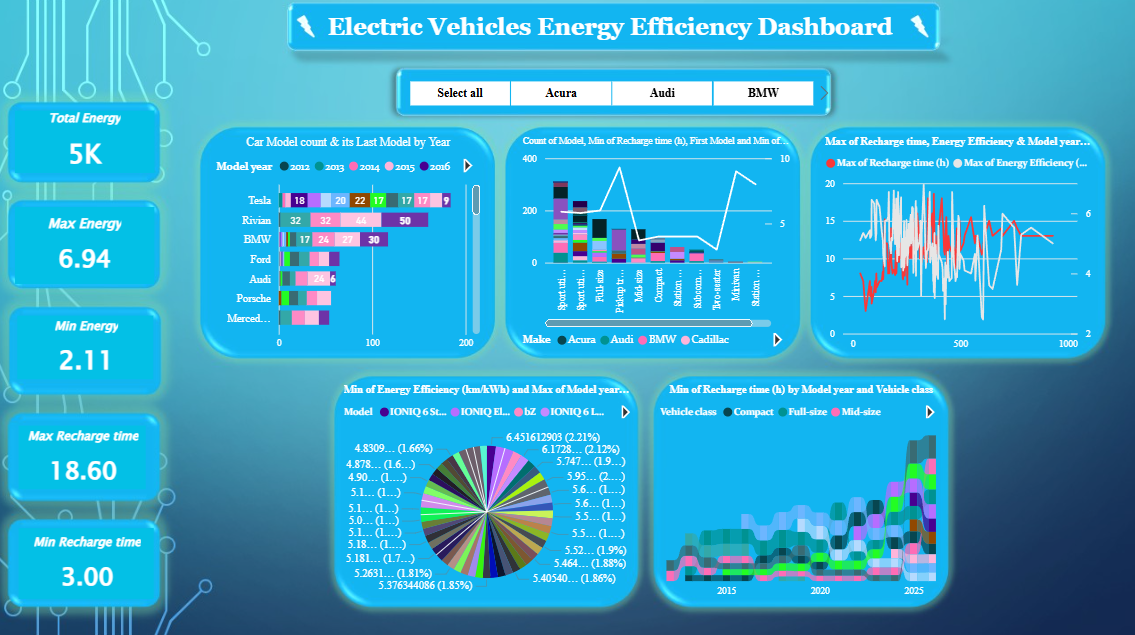

This screenshot's page, from the dashboard's own definition file:
{"tool":"powerbi","page":{"name":"Page 1","canvas":[1280,720],"ordinal":0},"visuals":[{"type":"textbox","box":[326.4,14,717.3,46.2],"z":0},{"type":"cardVisual","fields":{"Data":["Max(EV Energy Efficiency Dataset.Energy Efficiency (km/kWh))"]},"box":[15.4,228.4,166.7,96.7],"z":1000},{"type":"cardVisual","fields":{"Data":["Sum(EV Energy Efficiency Dataset.Energy Efficiency (km/kWh))"]},"box":[15.4,120.5,166.7,79.9],"z":2000},{"type":"cardVisual","fields":{"Data":["Min(EV Energy Efficiency Dataset.Energy Efficiency (km/kWh))"]},"box":[18.2,350.3,162.5,81.3],"z":3000},{"type":"cardVisual","fields":{"Data":["Max(EV Energy Efficiency Dataset.Recharge time (h))"]},"box":[19.6,473.6,152.7,81.3],"z":4000},{"type":"cardVisual","fields":{"Data":["Min(EV Energy Efficiency Dataset.Recharge time (h))"]},"box":[19.6,588.4,161.1,89.7],"z":5000},{"type":"barChart","title":"Car Model count & its Last Model by Year","fields":{"Category":["EV Energy Efficiency Dataset.Make"],"Y":["CountNonNull(EV Energy Efficiency Dataset.Model)"],"Series":["EV Energy Efficiency Dataset.Model year"]},"box":[240.6,160.8,306.1,239.4],"z":6000},{"type":"lineStackedColumnComboChart","title":"Model Count, Min Recharge time, First Model and Min of Model year by Vehicle class and Make","fields":{"Category":["EV Energy Efficiency Dataset.Vehicle class"],"Y2":["Min(EV Energy Efficiency Dataset.Recharge time (h))"],"Series":["EV Energy Efficiency Dataset.Make"],"Y":["CountNonNull(EV Energy Efficiency Dataset.Model)"]},"box":[578.9,160.8,314.5,239.4],"z":7000},{"type":"lineChart","title":"Max of Recharge time, Energy Efficiency & Model year by Motor (kW)","fields":{"Category":["EV Energy Efficiency Dataset.Motor (kW)"],"Y2":["Max(EV Energy Efficiency Dataset.Energy Efficiency (km/kWh))"],"Y":["Max(EV Energy Efficiency Dataset.Recharge time (h))"]},"box":[923.1,160.8,308.5,239.4],"z":8000},{"type":"pieChart","title":"Min Energy Efficiency and Max Model year by Model & Recharge time (h)","fields":{"Y":["Min(EV Energy Efficiency Dataset.Energy Efficiency (km/kWh))"],"Category":["EV Energy Efficiency Dataset.Model"],"Series":["EV Energy Efficiency Dataset.Recharge time (h)"]},"box":[383.5,439.5,331.1,238.2],"z":9000},{"type":"ribbonChart","fields":{"Category":["EV Energy Efficiency Dataset.Model year"],"Y":["Min(EV Energy Efficiency Dataset.Recharge time (h))"],"Series":["EV Energy Efficiency Dataset.Vehicle class"]},"box":[738.5,439.5,326.4,238.2],"z":10000},{"type":"slicer","fields":{"Values":["EV Energy Efficiency Dataset.Make"]},"box":[434.8,85.8,501.5,34.5],"z":11000},{"type":"gauge","title":"Max Recharge time & Target with Last Model","fields":{"TargetValue":["EV Energy Efficiency Dataset.Target"],"Y":["Max(EV Energy Efficiency Dataset.Recharge time (h))"]},"box":[1078,476.5,193,163.2],"z":12000}]}

Visuals, with their boxes in screenshot pixels (x1, y1, x2, y2), scaled from the page's 1280x720 canvas onto the 1135x635 screenshot:
textbox: left=289, top=12, right=925, bottom=53
cardVisual - Max(EV Energy Efficiency Dataset.Energy Efficiency (km/kWh)): left=14, top=201, right=161, bottom=287
cardVisual - Sum(EV Energy Efficiency Dataset.Energy Efficiency (km/kWh)): left=14, top=106, right=161, bottom=177
cardVisual - Min(EV Energy Efficiency Dataset.Energy Efficiency (km/kWh)): left=16, top=309, right=160, bottom=381
cardVisual - Max(EV Energy Efficiency Dataset.Recharge time (h)): left=17, top=418, right=153, bottom=489
cardVisual - Min(EV Energy Efficiency Dataset.Recharge time (h)): left=17, top=519, right=160, bottom=598
"Car Model count & its Last Model by Year" barChart: left=213, top=142, right=485, bottom=353
"Model Count, Min Recharge time, First Model and Min of Model year by Vehicle class and Make" lineStackedColumnComboChart: left=513, top=142, right=792, bottom=353
"Max of Recharge time, Energy Efficiency & Model year by Motor (kW)" lineChart: left=819, top=142, right=1092, bottom=353
"Min Energy Efficiency and Max Model year by Model & Recharge time (h)" pieChart: left=340, top=388, right=634, bottom=598
ribbonChart - EV Energy Efficiency Dataset.Model year x Min(EV Energy Efficiency Dataset.Recharge time (h)): left=655, top=388, right=944, bottom=598
slicer - EV Energy Efficiency Dataset.Make: left=386, top=76, right=830, bottom=106
"Max Recharge time & Target with Last Model" gauge: left=956, top=420, right=1127, bottom=564
